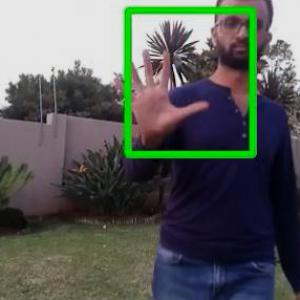follow_hand: (109, 42, 211, 144)
